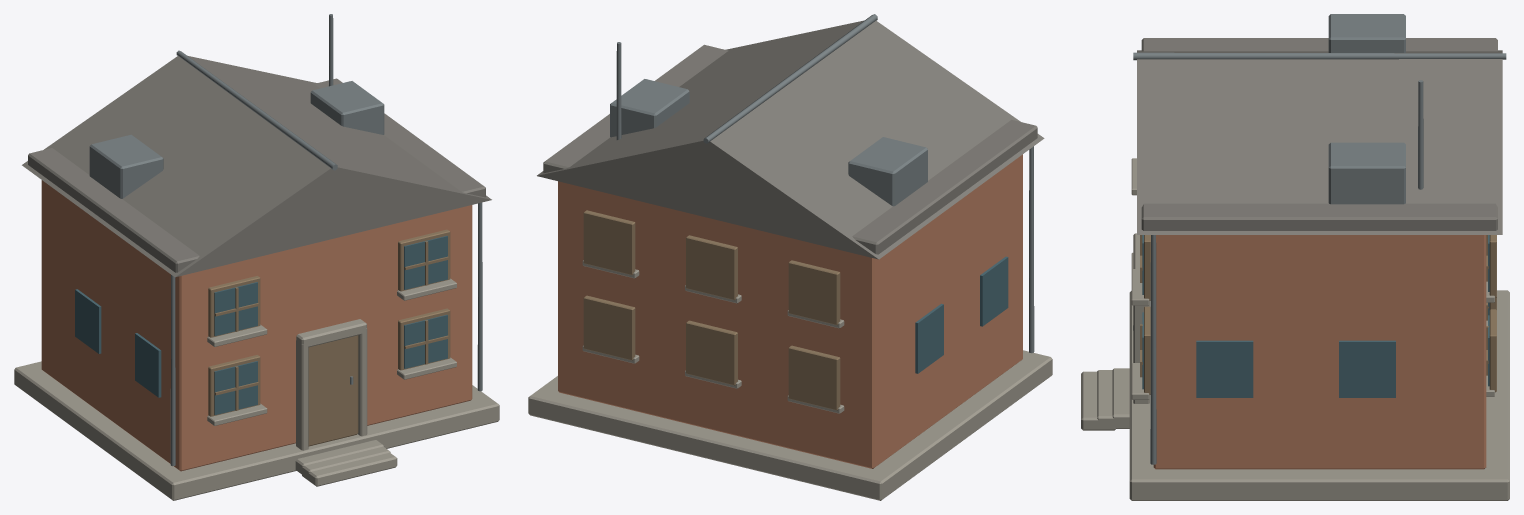
File: bld_academie_a06.glb
3 views of the same model, side by side, from view 1: azimuth 30°, elevation 25°; view 2: azimuth 150°, elevation 25°; view 3: azimuth 270°, elevation 25° (orthographic). The views are drawn at different scales.
Visible parts, largest first — view 1: bld_academie_a06; view 2: bld_academie_a06; view 3: bld_academie_a06.
Boxes of the visible parts, <box> form: bld_academie_a06: <box>14,14,499,500</box>; bld_academie_a06: <box>528,14,1052,500</box>; bld_academie_a06: <box>1081,14,1509,500</box>.
Size of the model in its own units: 3.8 by 3.66 by 3.61.
